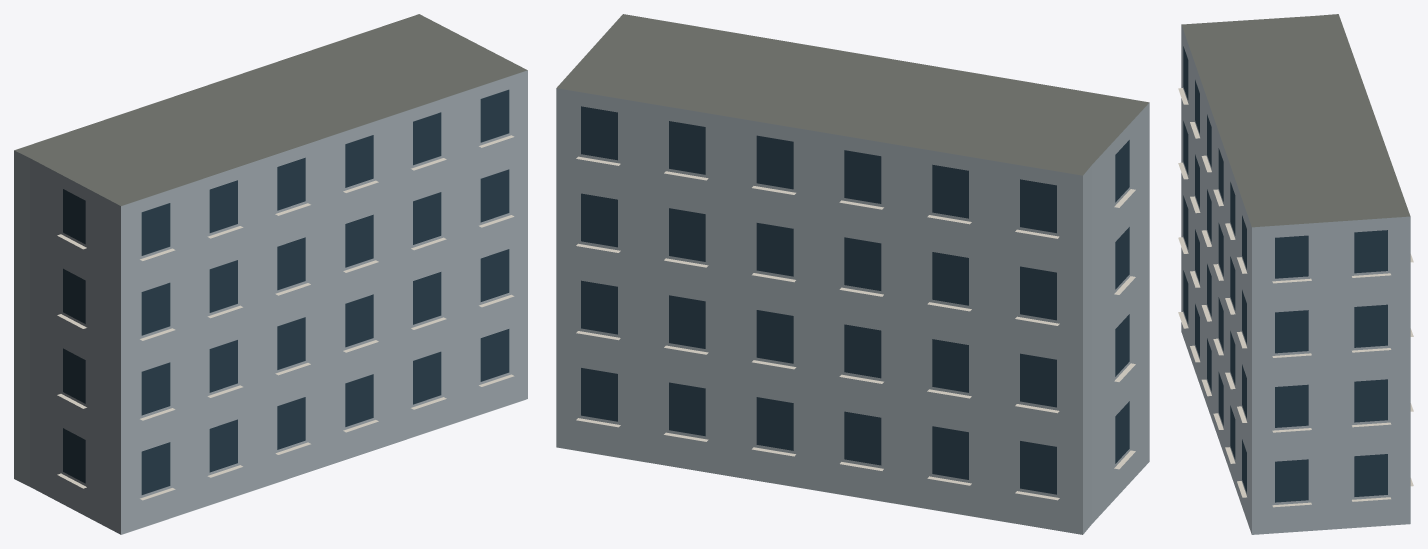
3 renders of one model, left to right at view 1: azimuth 30°, elevation 25°; view 2: azimuth 150°, elevation 25°; view 3: azimuth 270°, elevation 25°, orthographic. The views are drawn at different scales.
Parts seen in each view (by area): view 1: Footprint 0, Inferred window bays, Window sills; view 2: Footprint 0, Inferred window bays, Window sills; view 3: Footprint 0, Inferred window bays, Window sills.
Boxes of the visible parts, box(x1,y1,x2,y2) form: Footprint 0: box(14, 14, 527, 534); Inferred window bays: box(63, 89, 509, 494); Window sills: box(57, 135, 514, 500); Footprint 0: box(556, 14, 1149, 534); Inferred window bays: box(581, 106, 1129, 494); Window sills: box(576, 156, 1135, 500); Footprint 0: box(1181, 14, 1410, 534); Inferred window bays: box(1183, 46, 1387, 502); Window sills: box(1178, 88, 1413, 507).
Bounding box in the file's own units: 18.56 × 12.4 × 8.61.
